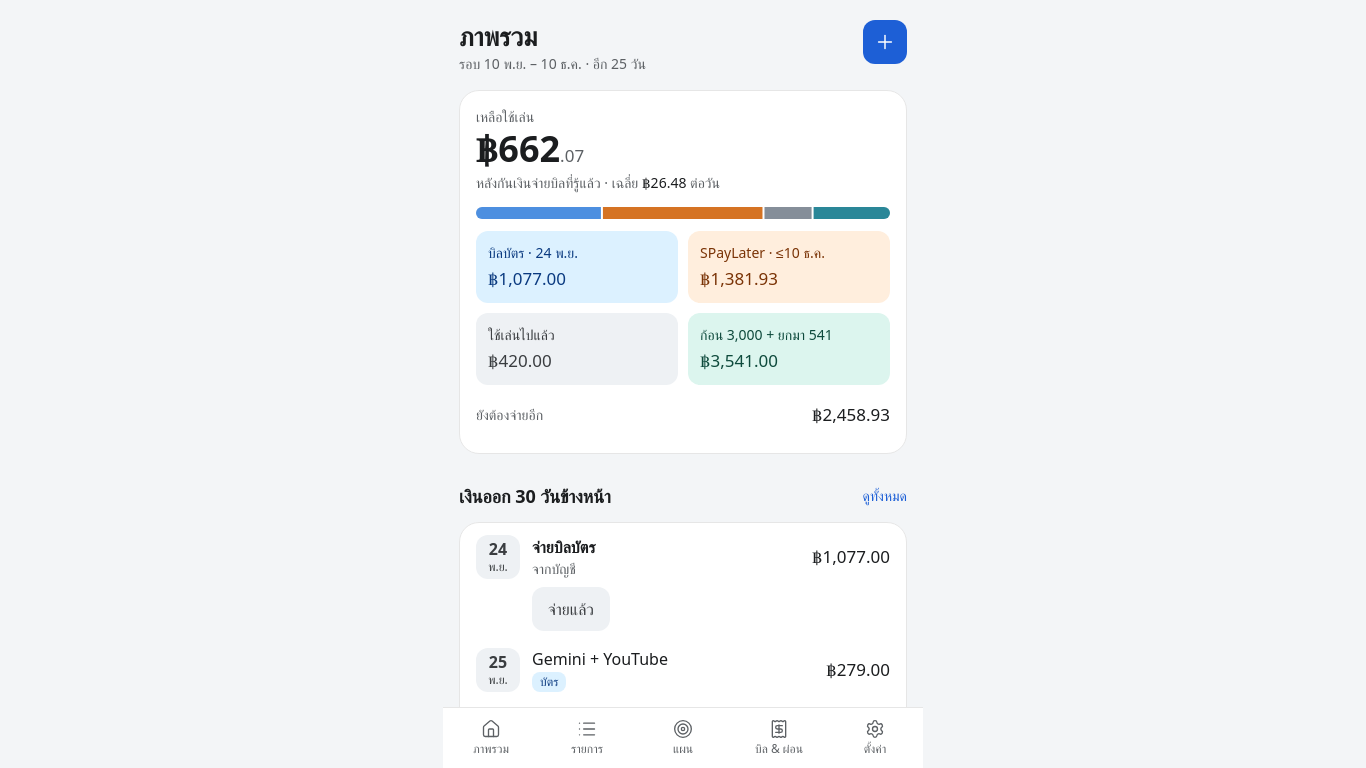
Test: <PreviewHome> › add sheet › saves, shows a toast with undo, and undo takes the spending back
The width and height of the screenshot is (1366, 768).
Click the button named "เพิ่มรายการ": x=885, y=42 863,20 -> 907,64
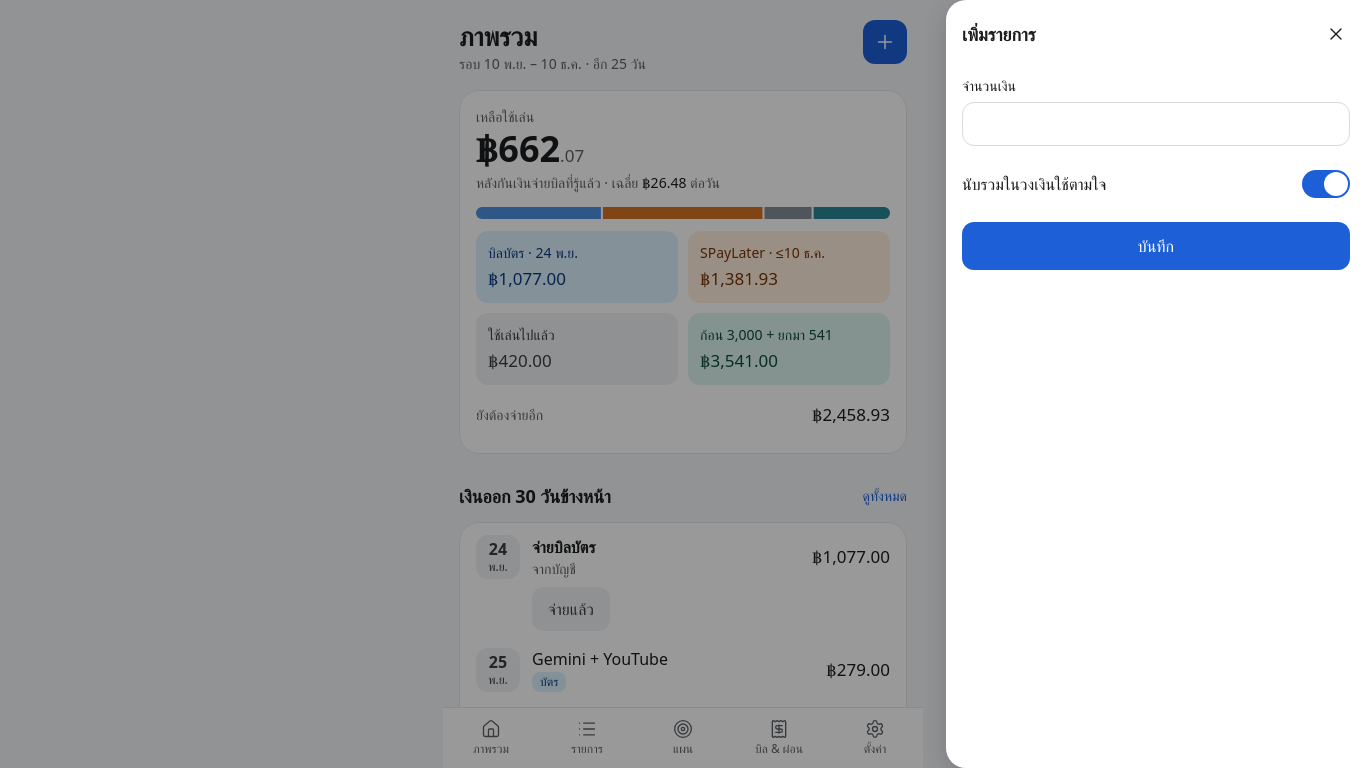
In the field labelled "จำนวนเงิน": x=1156, y=124 962,102 -> 1350,146, type "100"
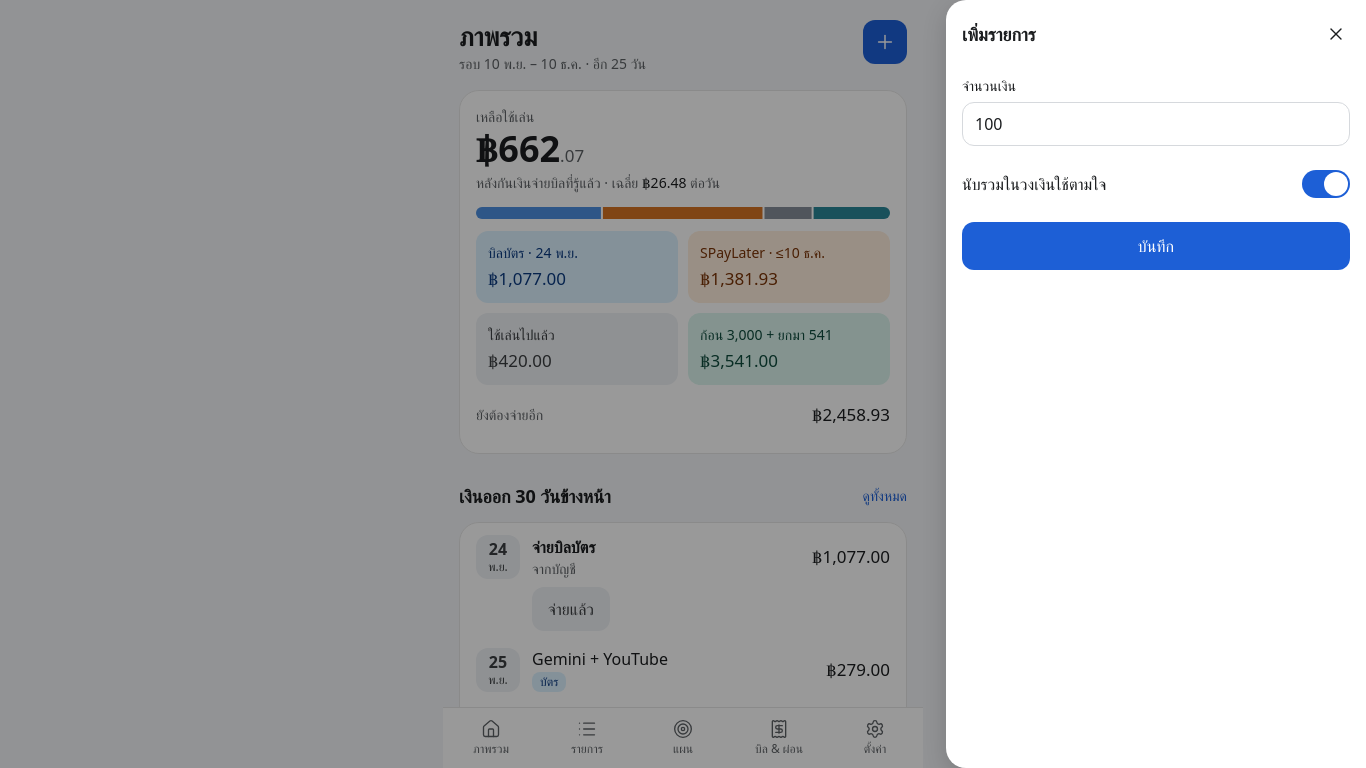
Click the button "บันทึก": x=1156, y=246 962,222 -> 1350,270
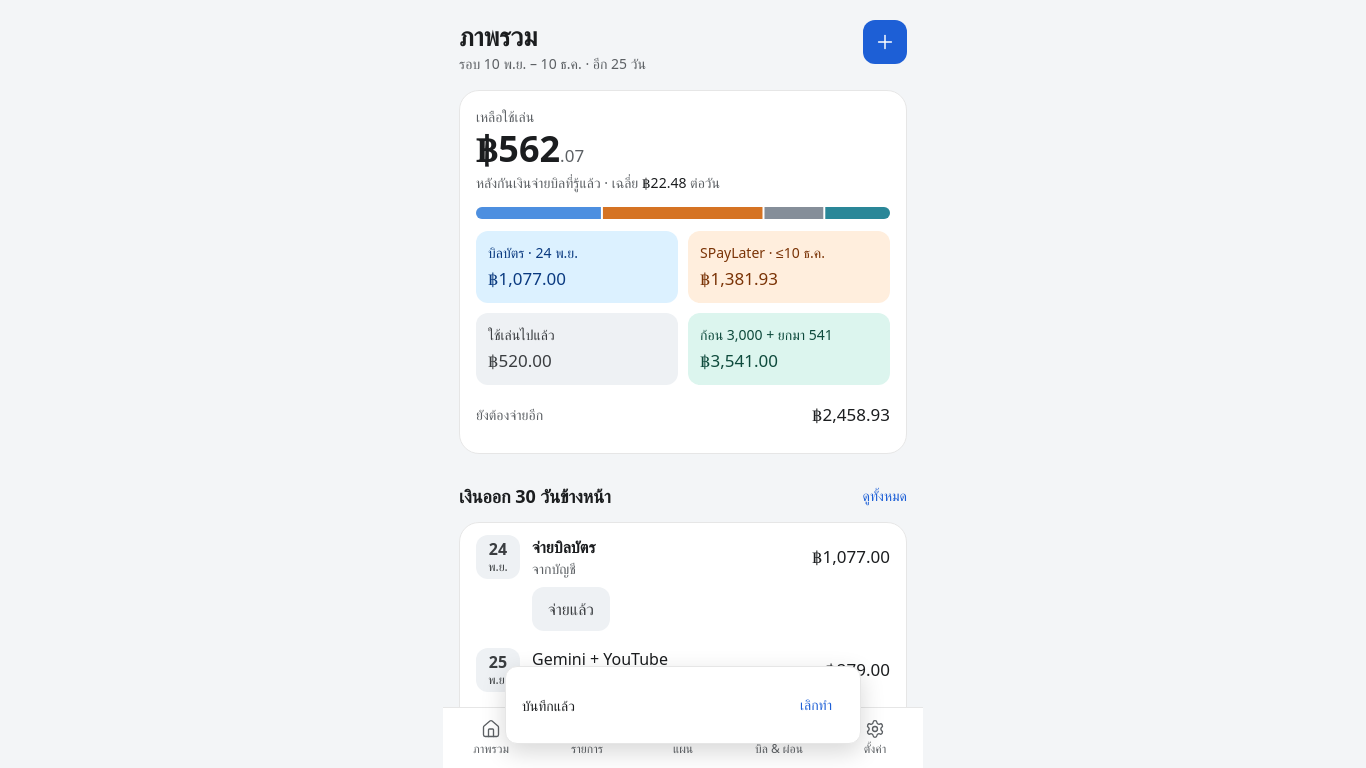
Expected: the text "บันทึกแล้ว" is shown, 522,694 -> 575,716
Expected: the element with test id "play-left" reads "฿562.07", 476,124 -> 584,173
Click the button "เลิกทำ": x=816, y=705 788,683 -> 844,727
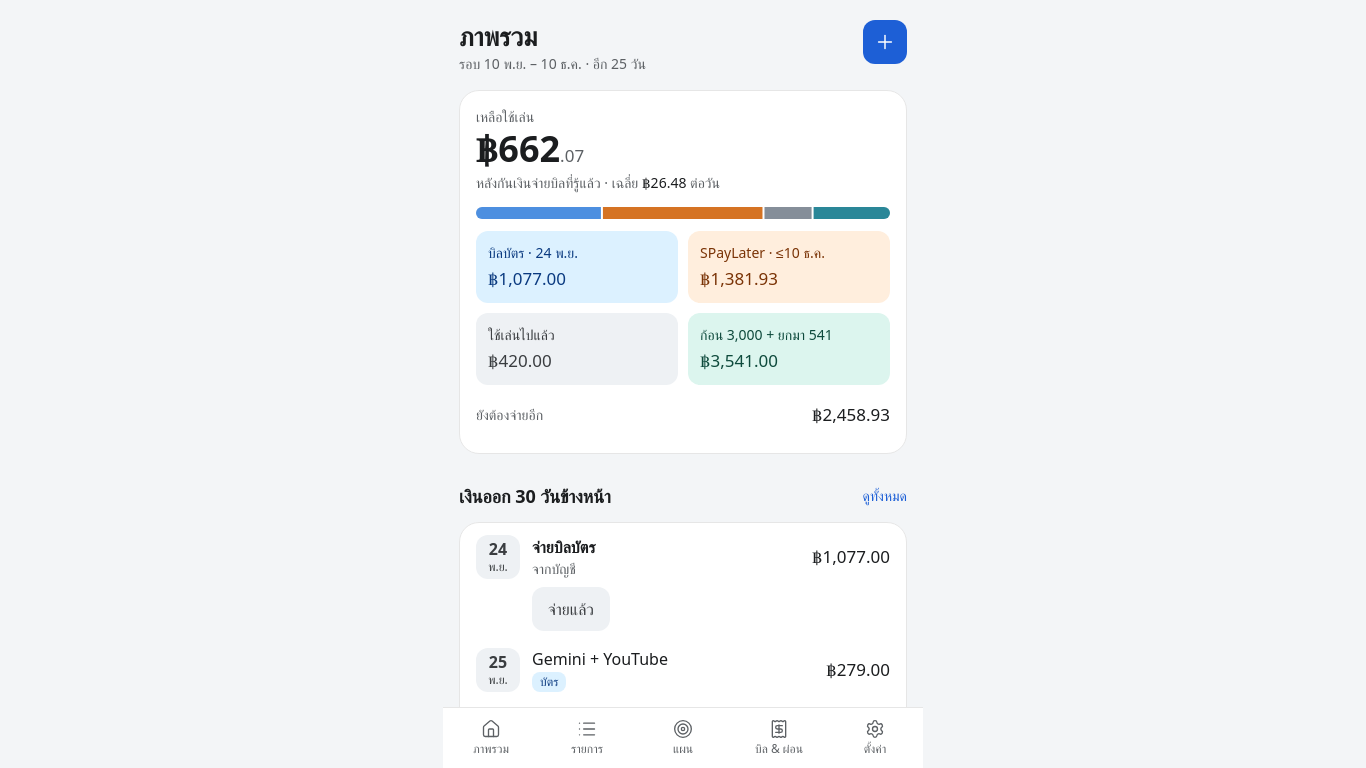
Expected: the element with test id "play-left" reads "฿662.07", 476,124 -> 584,173
